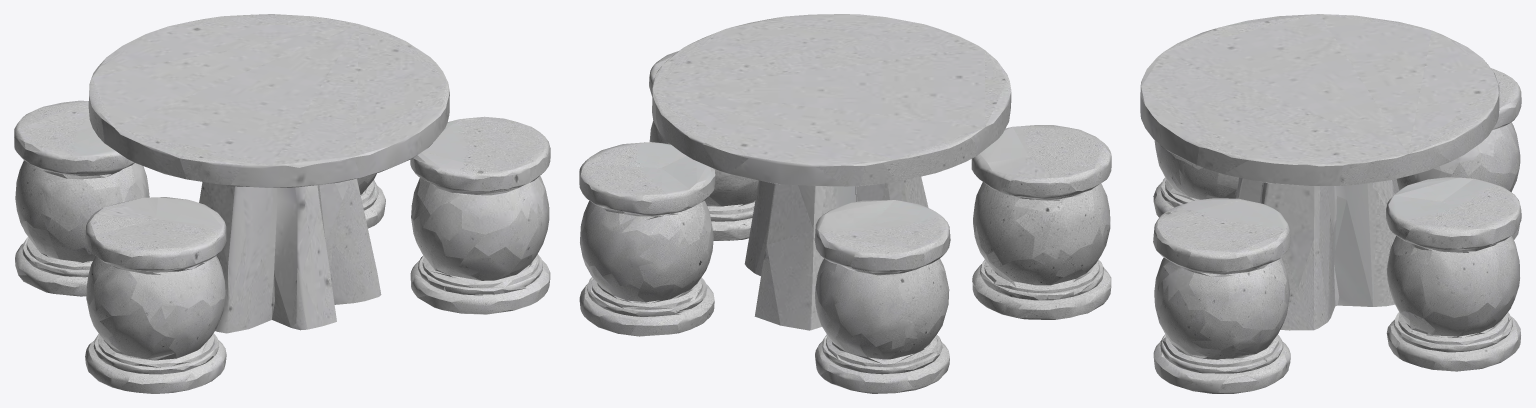
The model's file is stonetable.glb.
3 renders of one model, left to right at view 1: azimuth 30°, elevation 25°; view 2: azimuth 150°, elevation 25°; view 3: azimuth 270°, elevation 25°, orthographic.
Bounding box in the file's own units: 1.9 × 0.8162 × 1.42.
Materials: 1 (1 with a texture image).
